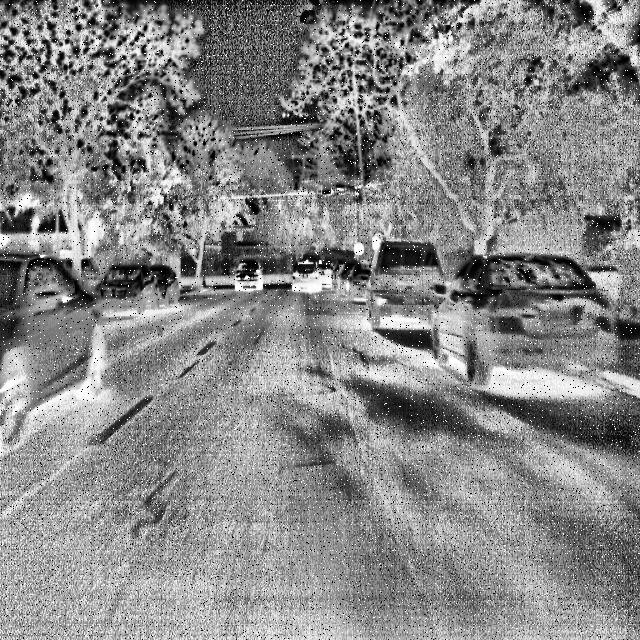car: (438, 215, 610, 428), (5, 230, 104, 419), (360, 219, 450, 343), (95, 251, 185, 326), (224, 248, 270, 294), (292, 246, 328, 295), (333, 256, 368, 300)
